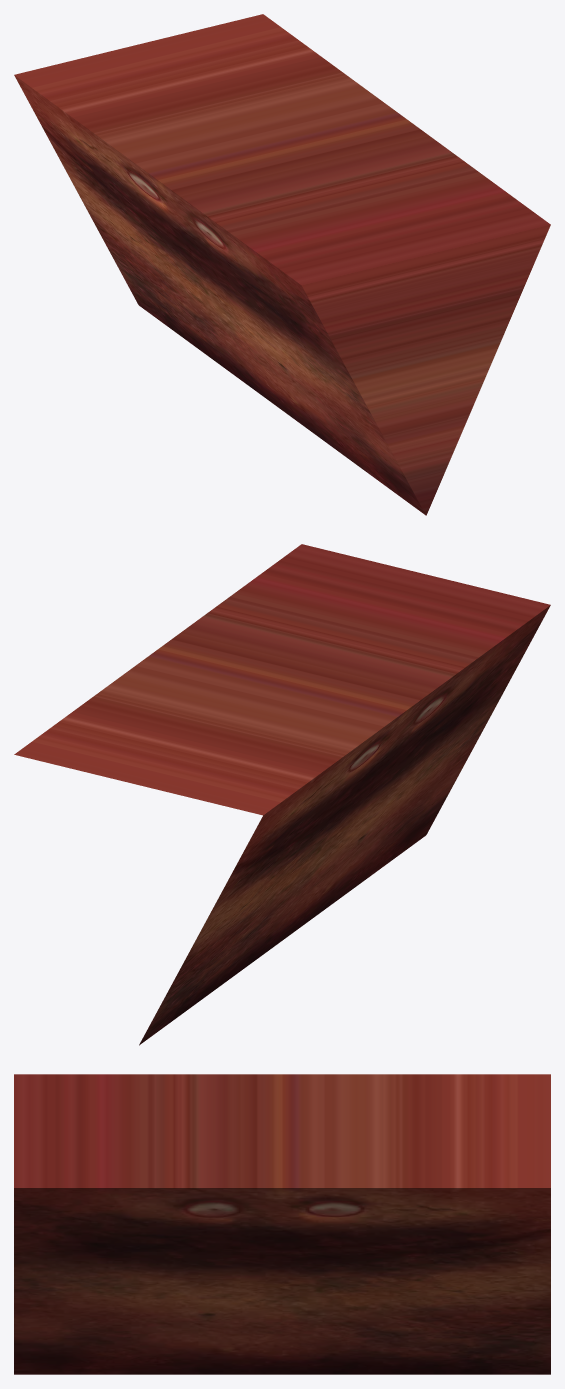
3 views of the same model, one above another, from view 1: azimuth 30°, elevation 25°; view 2: azimuth 150°, elevation 25°; view 3: azimuth 270°, elevation 25° (orthographic). The views are drawn at different scales.
Parts seen in each view (by area): view 1: model_Object40; view 2: model_Object40; view 3: model_Object40.
Part boxes in pixels (x1=…): model_Object40: x1=14, y1=14, x2=550, y2=515; model_Object40: x1=14, y1=544, x2=550, y2=1045; model_Object40: x1=14, y1=1074, x2=550, y2=1374.
Bounding box in the file's own units: 1 × 1 × 2.
Materials: 1 (1 with a texture image).
